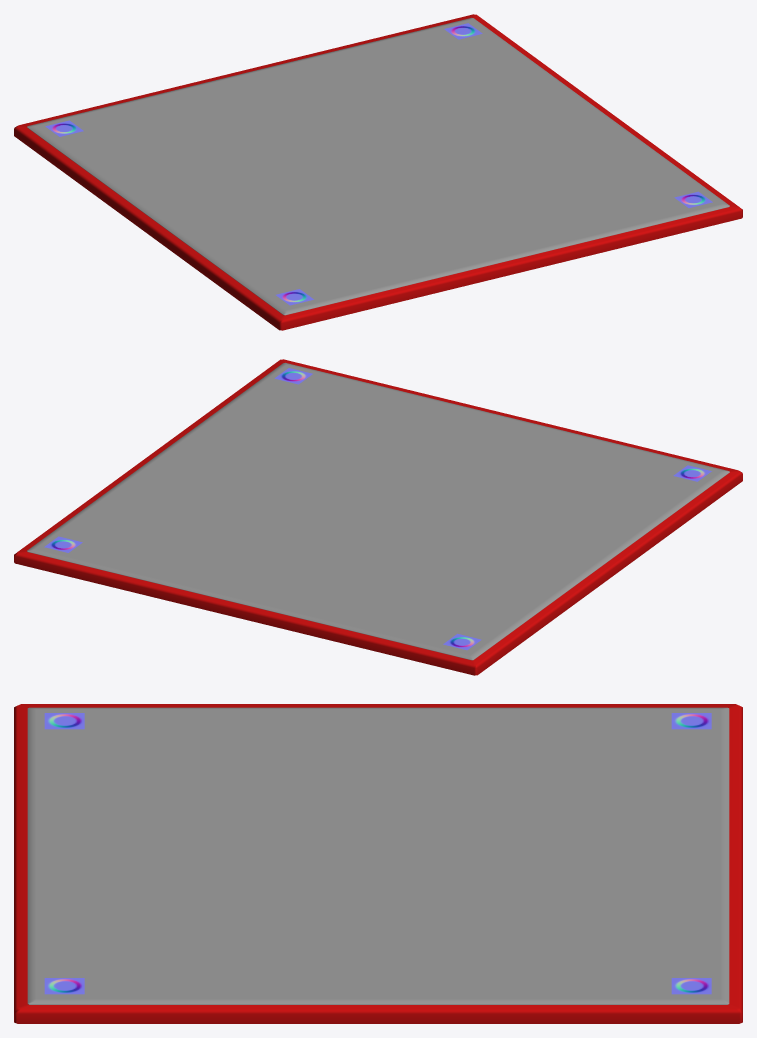
The model's file is SideFloor_01.FBX.
The picture shows the model from 3 angles, top to bottom: view 1: azimuth 30°, elevation 25°; view 2: azimuth 150°, elevation 25°; view 3: azimuth 270°, elevation 25°; orthographic projection. The views are drawn at different scales.
Visible parts, largest first — view 1: SM_SideFloor_007, SM_SideFloor_01; view 2: SM_SideFloor_007, SM_SideFloor_01; view 3: SM_SideFloor_007, SM_SideFloor_01, Object001, Object002, Object003, Object004.
Boxes of the visible parts, left/top/right/bottom form: SM_SideFloor_007: left=27, top=17, right=729, bottom=315; SM_SideFloor_01: left=14, top=14, right=742, bottom=330; SM_SideFloor_007: left=27, top=362, right=729, bottom=660; SM_SideFloor_01: left=14, top=359, right=742, bottom=675; SM_SideFloor_007: left=27, top=707, right=729, bottom=1004; SM_SideFloor_01: left=14, top=704, right=742, bottom=1023; Object001: left=44, top=713, right=84, bottom=729; Object002: left=44, top=978, right=84, bottom=994; Object003: left=671, top=713, right=711, bottom=729; Object004: left=671, top=978, right=711, bottom=994.
Bounding box in the file's own units: 98.43 × 2.48 × 98.43.
